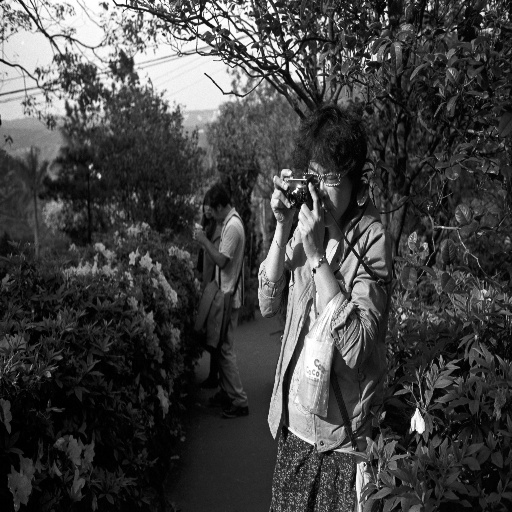hand: (259, 170, 309, 324), (295, 179, 325, 260), (194, 231, 207, 246)
